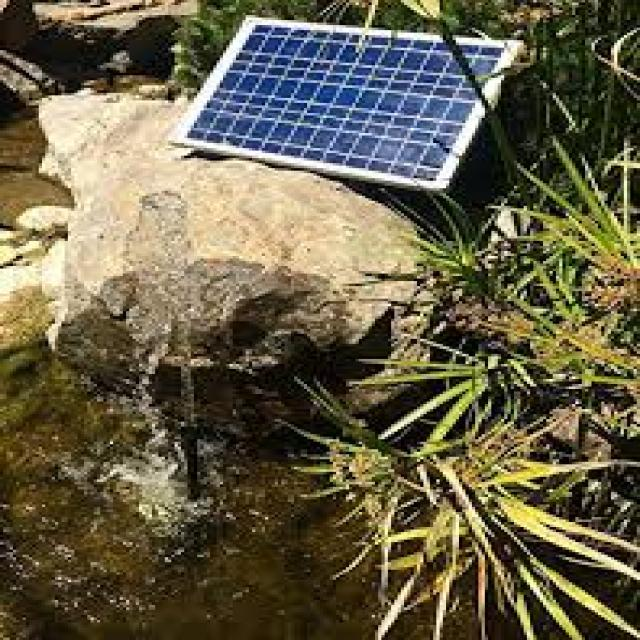no faulty: (176, 15, 499, 184)
